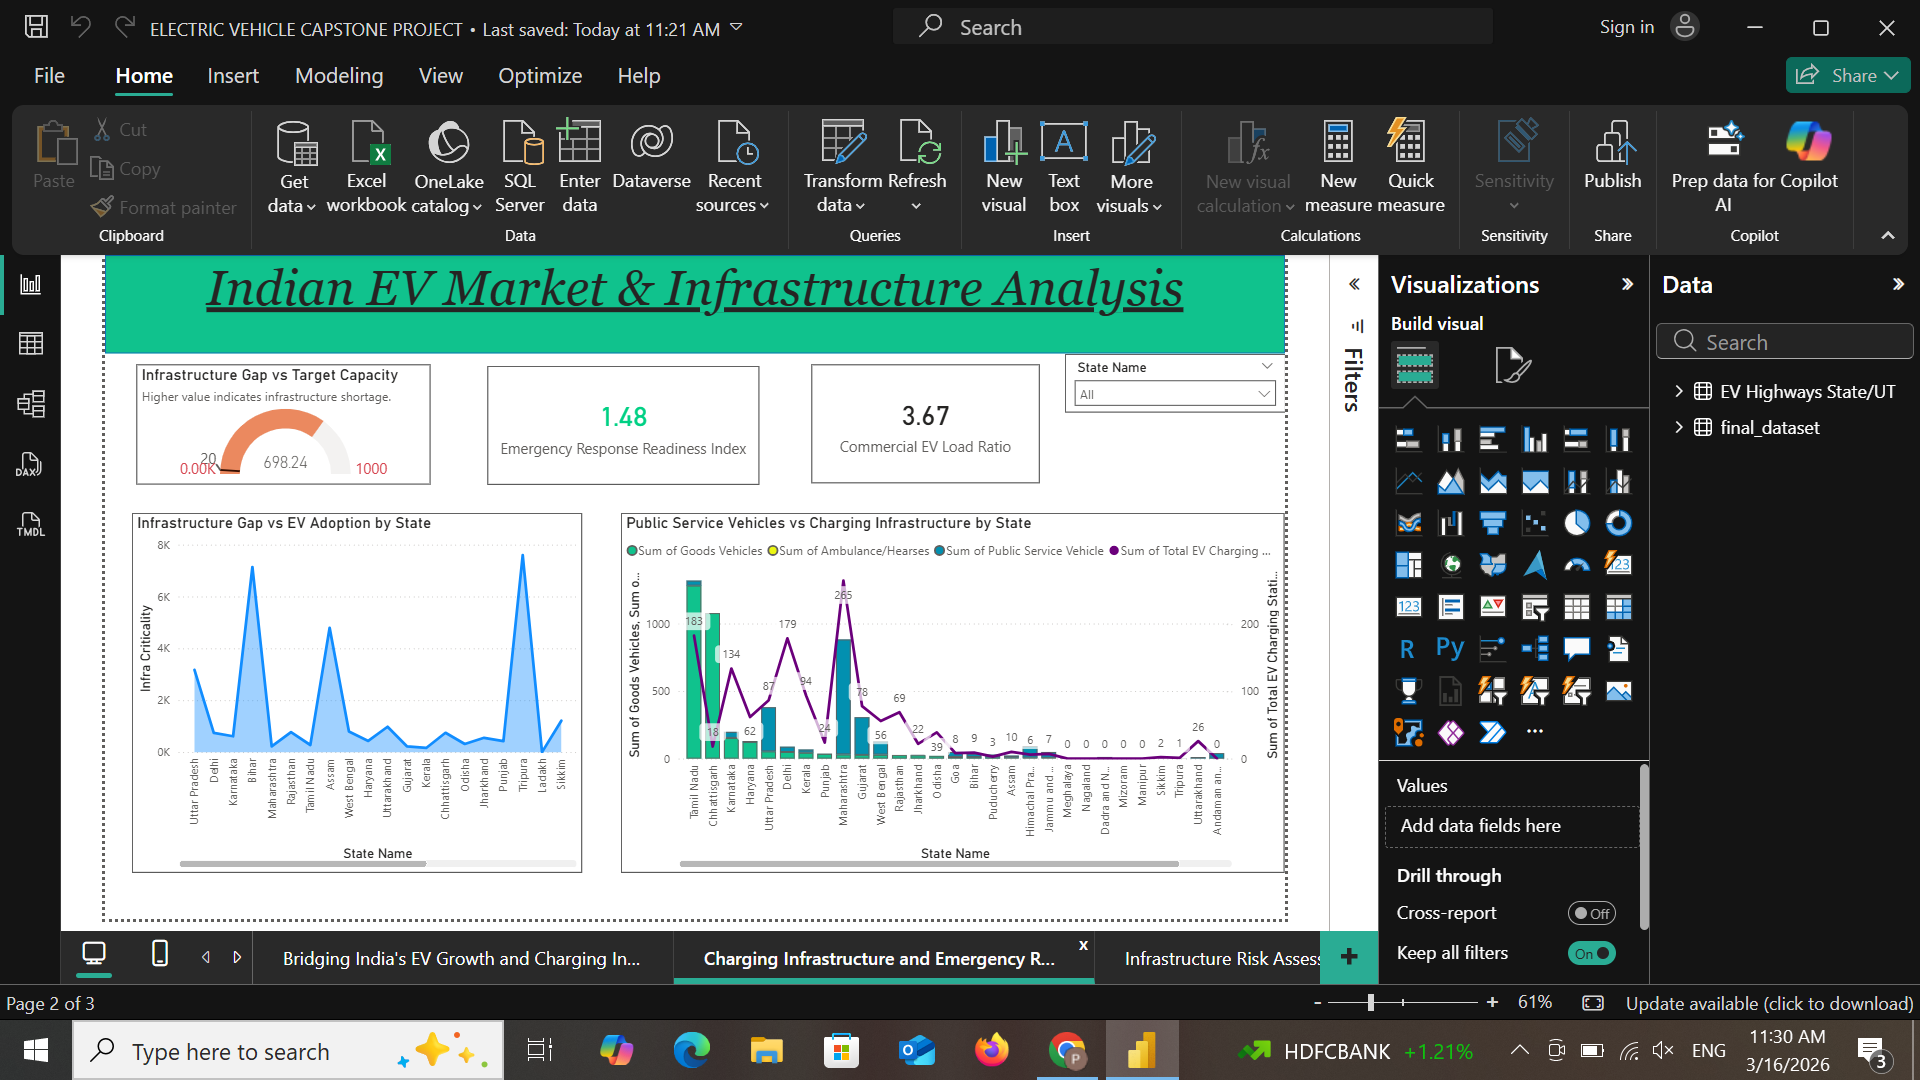

This screenshot's page, from the dashboard's own definition file:
{"tool":"powerbi","page":{"name":"Charging Infrastructure and Emergency Readiness Analysis","canvas":[1280,720],"ordinal":1},"visuals":[{"type":"shape","box":[0,0,1279.4,106.8],"z":0},{"type":"textbox","box":[0,0,1279.4,106.8],"z":1000},{"type":"slicer","fields":{"Values":["final_dataset.State Name"]},"box":[1041,107.4,239.1,63.4],"z":2000},{"type":"card","fields":{"Values":["final_dataset.Service_Infra_Ratio"]},"box":[414.8,120.4,294.4,128.5],"z":3000},{"type":"card","fields":{"Values":["final_dataset.Commercial_Load_Ratio"]},"box":[766.1,118.7,247.2,128.5],"z":4000},{"type":"gauge","title":"Infrastructure Gap vs Target Capacity","fields":{"Y":["final_dataset.Infra Criticality"],"TargetValue":["final_dataset.Infra_Target"],"MaxValue":["final_dataset.Maximum value"]},"box":[34.2,118.7,318.8,130.1],"z":6000},{"type":"lineStackedColumnComboChart","title":"Public Service Vehicles vs Charging Infrastructure by State","fields":{"Category":["final_dataset.State Name"],"Y":["Sum(final_dataset.Goods Vehicles)","Sum(final_dataset.Ambulance/Hearses)","Sum(final_dataset.Public Service Vehicle)"],"Y2":["Sum(final_dataset.Total EV Charging Stations)"]},"box":[560.1,280,719.3,390.3],"z":7000},{"type":"areaChart","title":"Infrastructure Gap vs EV Adoption by State","fields":{"Category":["final_dataset.State Name"],"Y":["final_dataset.EVs_per_Station"]},"box":[29.8,280,488.3,390.3],"z":8000}]}

Visuals, with their boxes on the page's 1280x720 design canvas (x1, y1, x2, y2). These are canvas units, not pixel positions in the 1920x1080 screenshot, which may show the page scaled, cropped or inside an application window:
shape: box=[0, 0, 1279, 107]
textbox: box=[0, 0, 1279, 107]
slicer - final_dataset.State Name: box=[1041, 107, 1280, 171]
card - final_dataset.Service_Infra_Ratio: box=[415, 120, 709, 249]
card - final_dataset.Commercial_Load_Ratio: box=[766, 119, 1013, 247]
"Infrastructure Gap vs Target Capacity" gauge: box=[34, 119, 353, 249]
"Public Service Vehicles vs Charging Infrastructure by State" lineStackedColumnComboChart: box=[560, 280, 1279, 670]
"Infrastructure Gap vs EV Adoption by State" areaChart: box=[30, 280, 518, 670]
